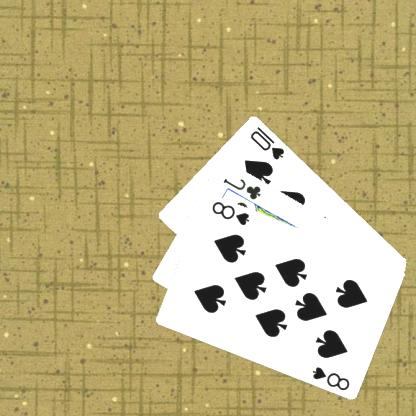10S: (249, 123, 288, 161)
8S: (310, 363, 354, 392), (210, 198, 252, 227)
JC: (222, 175, 264, 201)
